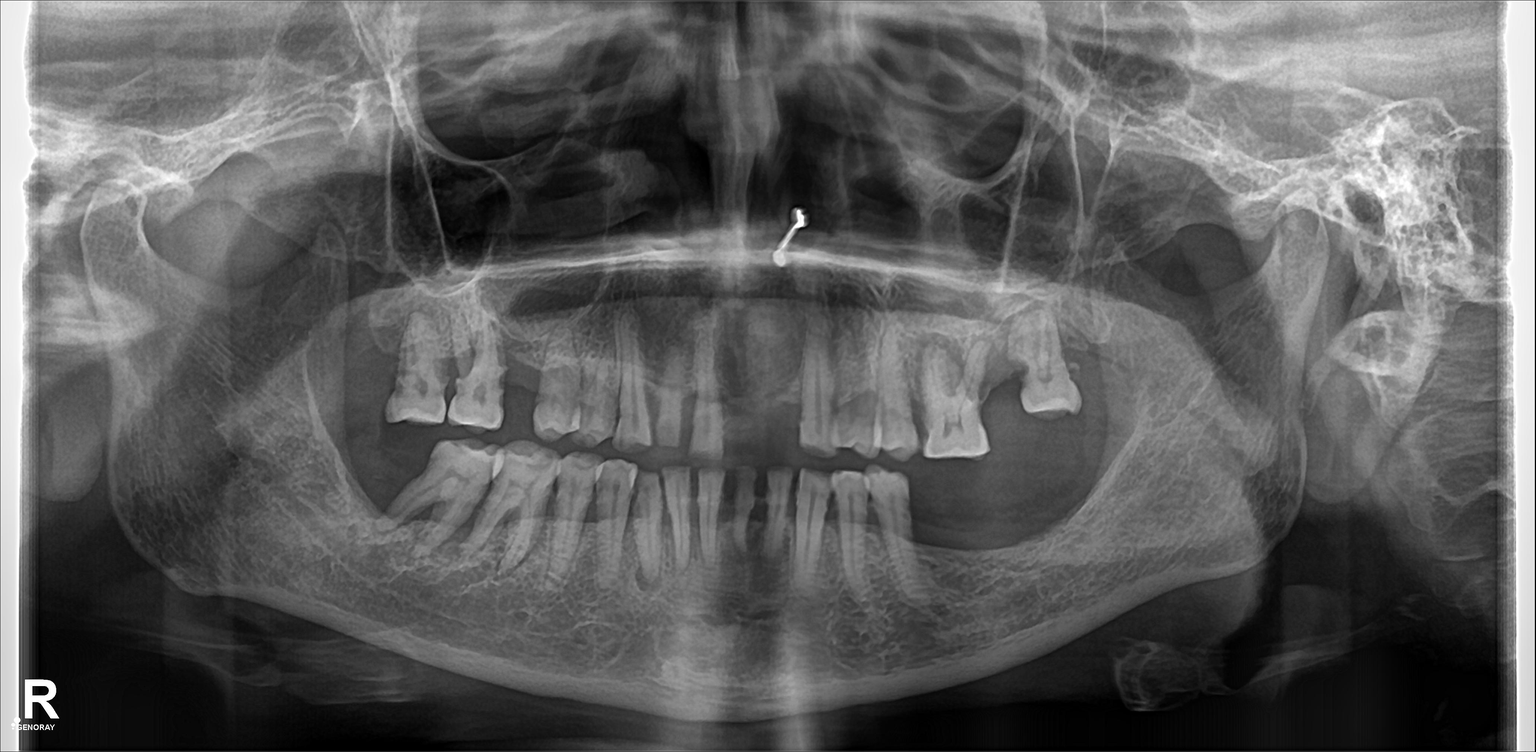Missing Tooth: (350, 302, 402, 413), (968, 469, 1018, 578), (1019, 460, 1068, 566), (976, 333, 1029, 429), (352, 454, 404, 541), (1075, 456, 1116, 563), (1069, 315, 1110, 414), (920, 478, 961, 573), (723, 344, 761, 434), (762, 341, 796, 436), (507, 342, 538, 420)
